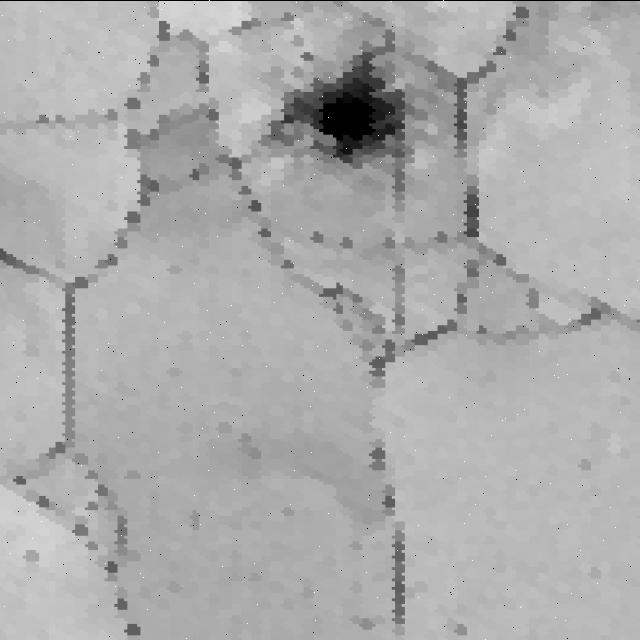good_void: (263, 36, 423, 168), (450, 615, 477, 638), (353, 610, 376, 630)
